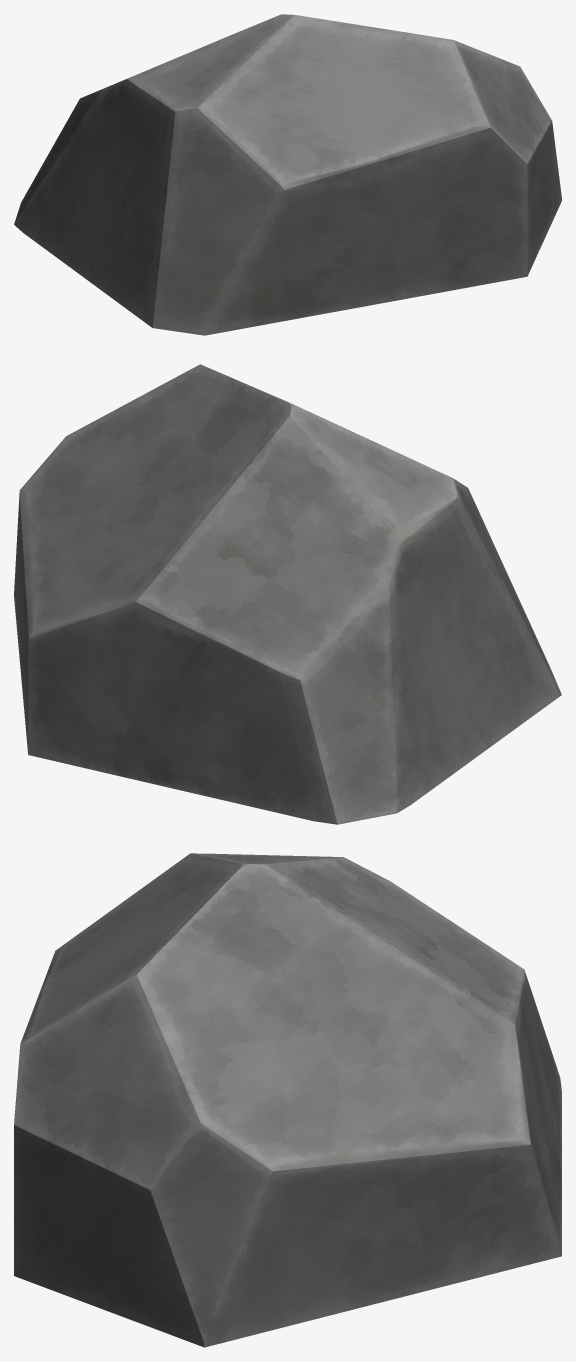
Rendered from Rock2_low.fbx.
3 views of the same model, one above another, from view 1: azimuth 30°, elevation 25°; view 2: azimuth 150°, elevation 25°; view 3: azimuth 270°, elevation 25° (orthographic). The views are drawn at different scales.
Parts seen in each view (by area): view 1: rock_2_low; view 2: rock_2_low; view 3: rock_2_low.
Part boxes in pixels (x1,y1,x2,y2): rock_2_low: [14, 14, 561, 335]; rock_2_low: [14, 364, 561, 824]; rock_2_low: [14, 853, 561, 1347].
Size of the model in its own units: 270 by 140 by 217.
